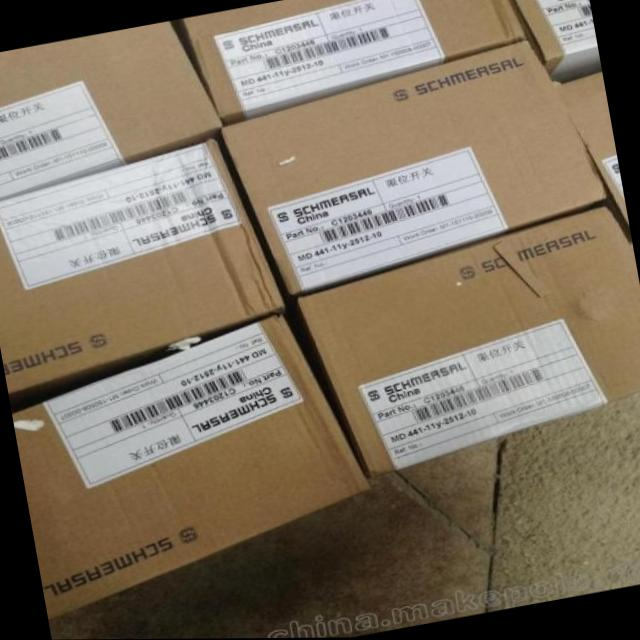box: (12, 314, 373, 619), (220, 40, 611, 297), (296, 205, 640, 476), (0, 138, 285, 414), (179, 0, 529, 124), (0, 21, 221, 199), (556, 71, 630, 230), (515, 0, 602, 90)
